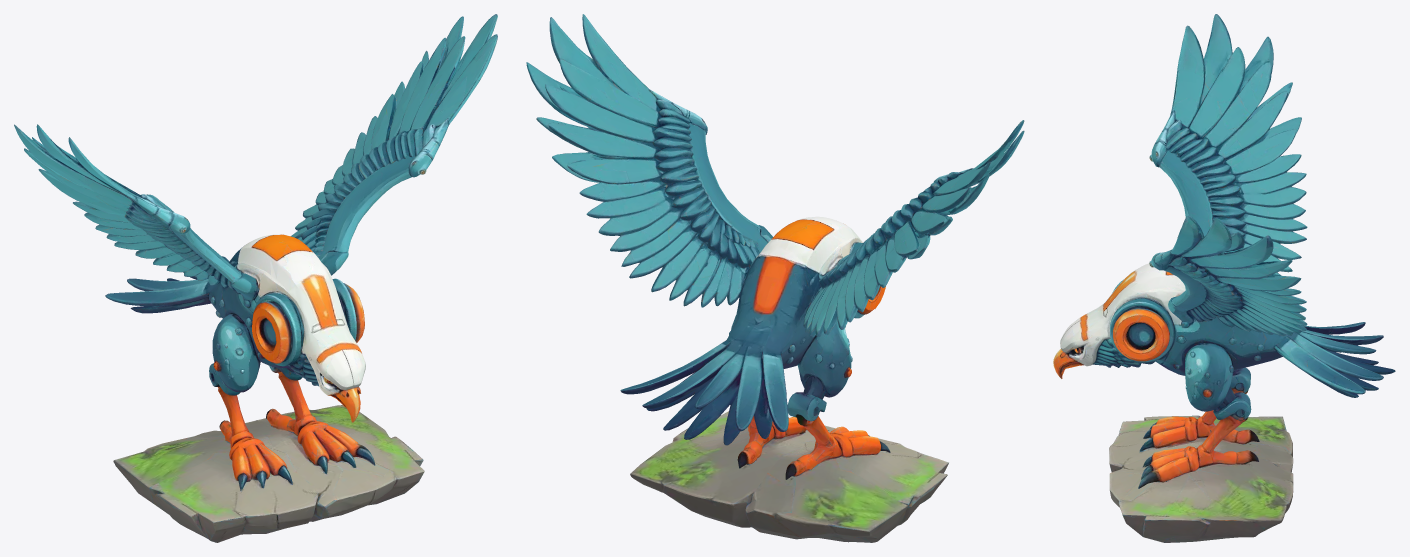
The model's file is mount-sky-hawk.glb.
3 views of the same model, side by side, from view 1: azimuth 30°, elevation 25°; view 2: azimuth 150°, elevation 25°; view 3: azimuth 270°, elevation 25° (orthographic). The views are drawn at different scales.
Parts seen in each view (by area): view 1: Mesh_0; view 2: Mesh_0; view 3: Mesh_0.
Part boxes in pixels (left/top/right/bottom): Mesh_0: left=14, top=14, right=497, bottom=542; Mesh_0: left=526, top=14, right=1024, bottom=542; Mesh_0: left=1053, top=14, right=1395, bottom=542.
Size of the model in its own units: 1.9 by 1.77 by 1.36.
Materials: 1 (1 with a texture image).
